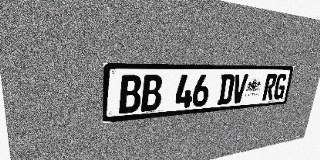4: (174, 74, 195, 109)
6: (192, 74, 211, 107)
B: (119, 75, 142, 114), (141, 75, 163, 112)
D: (217, 74, 235, 105)
G: (273, 74, 288, 100)
R: (262, 74, 278, 101)
V: (231, 74, 248, 104)
